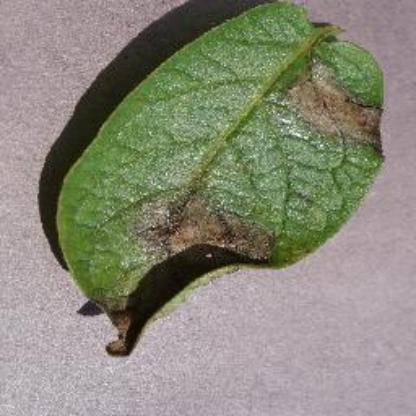Late-Blight: (49, 0, 391, 356)
